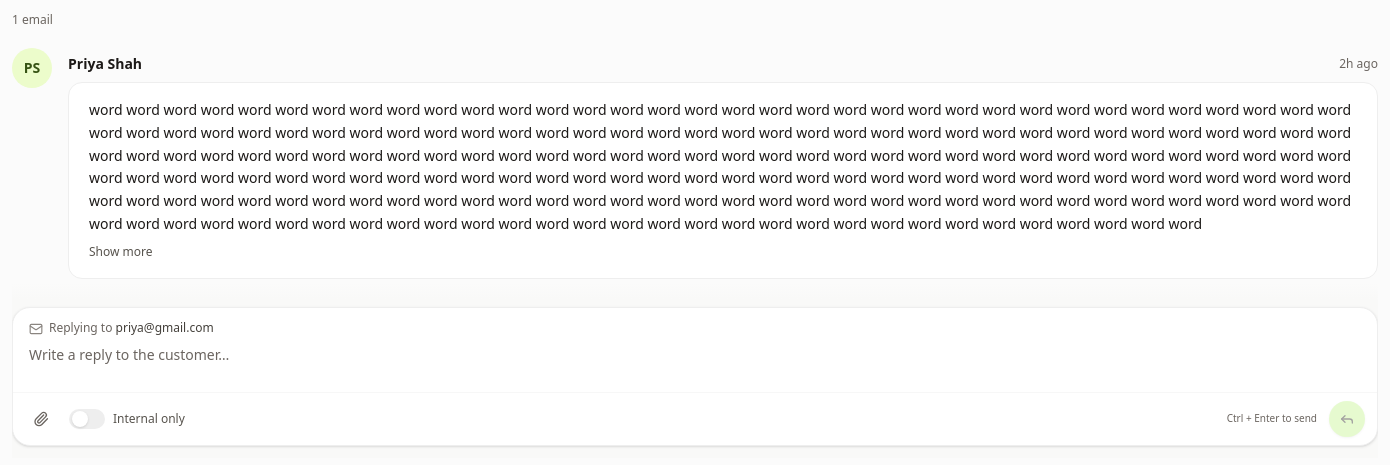
RecordCommunicationTab conversation › folds a long reply behind Show more
The image size is (1390, 465).
Click the button "Show more" at x=121, y=252, box [89,244,152,260]
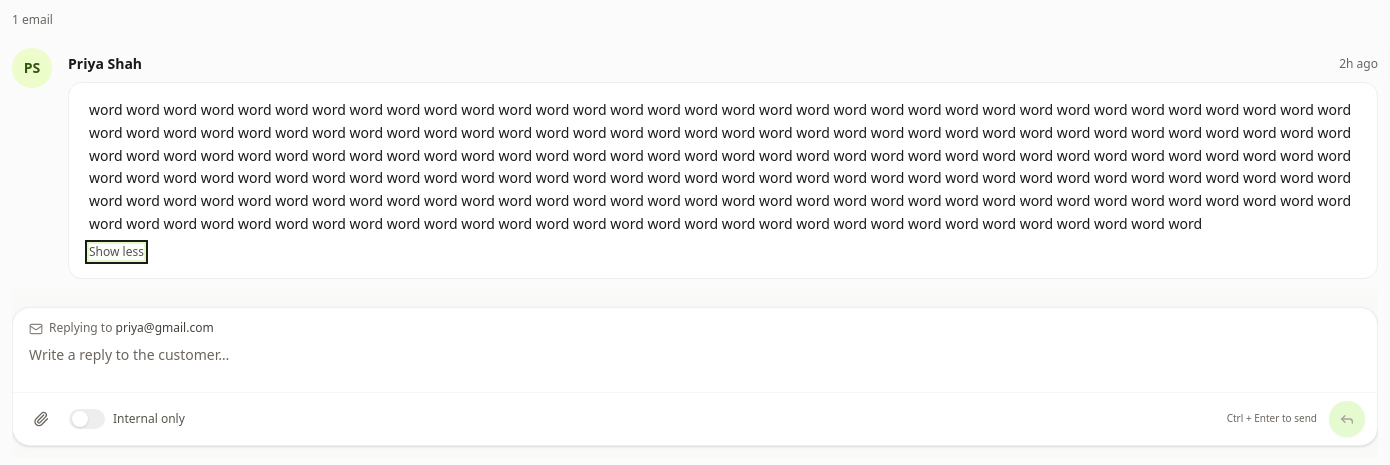
Expected: the button "Show less" is expanded, [89,244,144,260]
